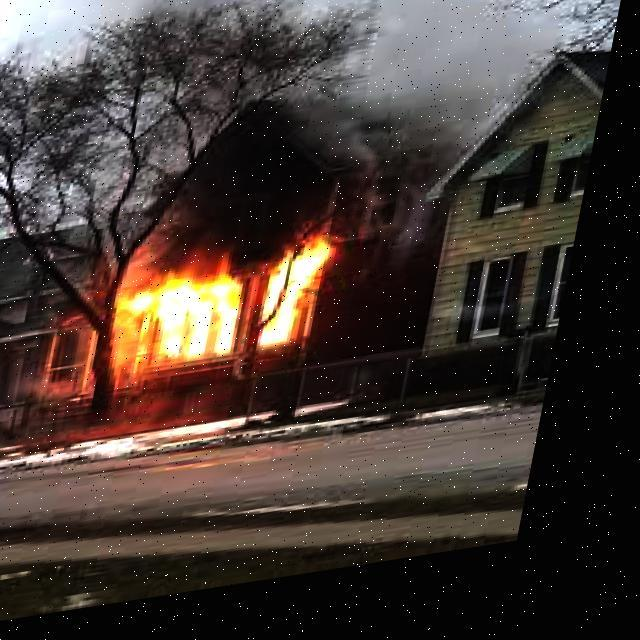Fire: (94, 183, 383, 403)
